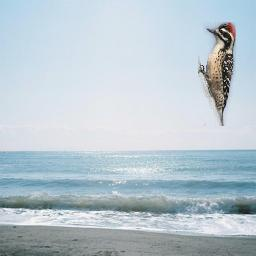Woodpecker: (198, 22, 236, 126)
